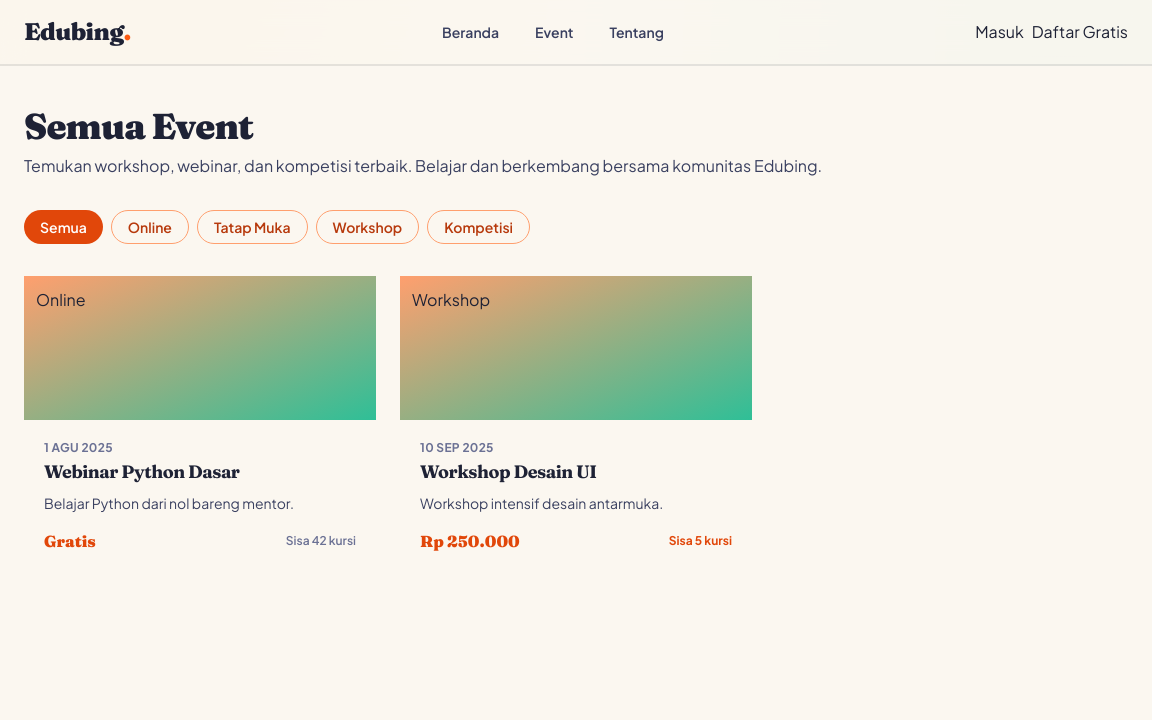
Test: Events list page › filter chip "Online" narrows to only online events
What coordinates should you click on to do the following:
click the button "Online"
I would click on:
 (150, 227)
Its box is [111,210,189,244].
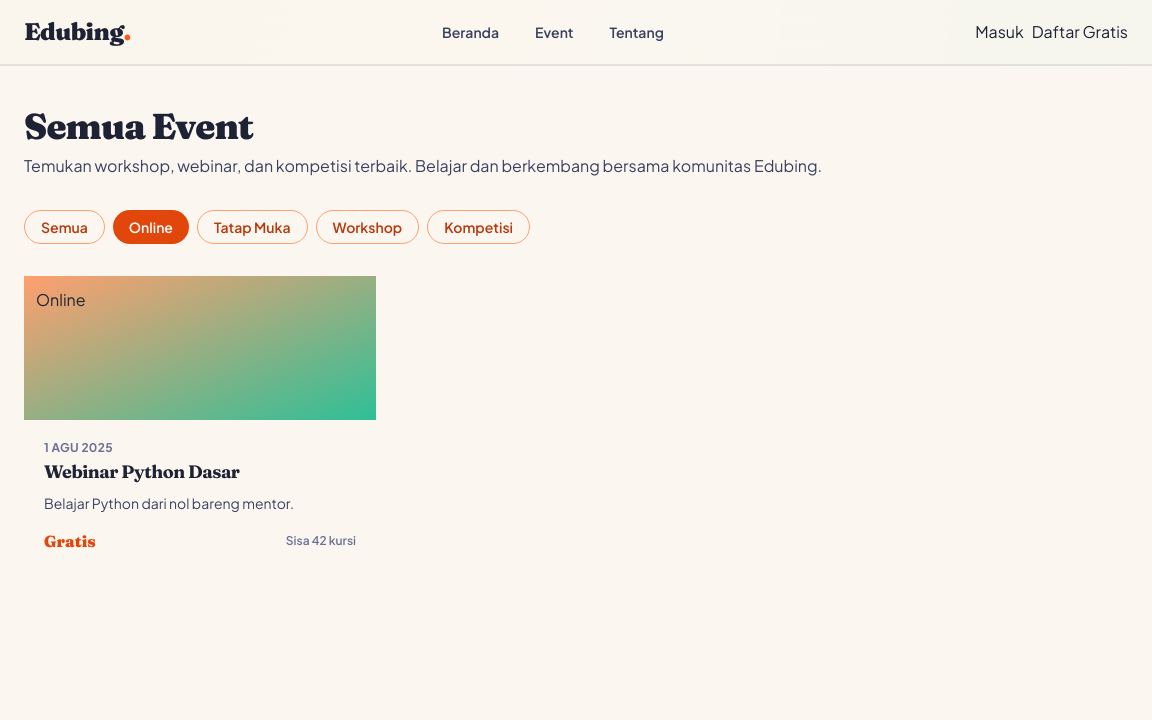
Expected: the heading "Webinar Python Dasar" is shown, [44,460,240,483]
Expected: the link "Workshop Desain UI" is gone
